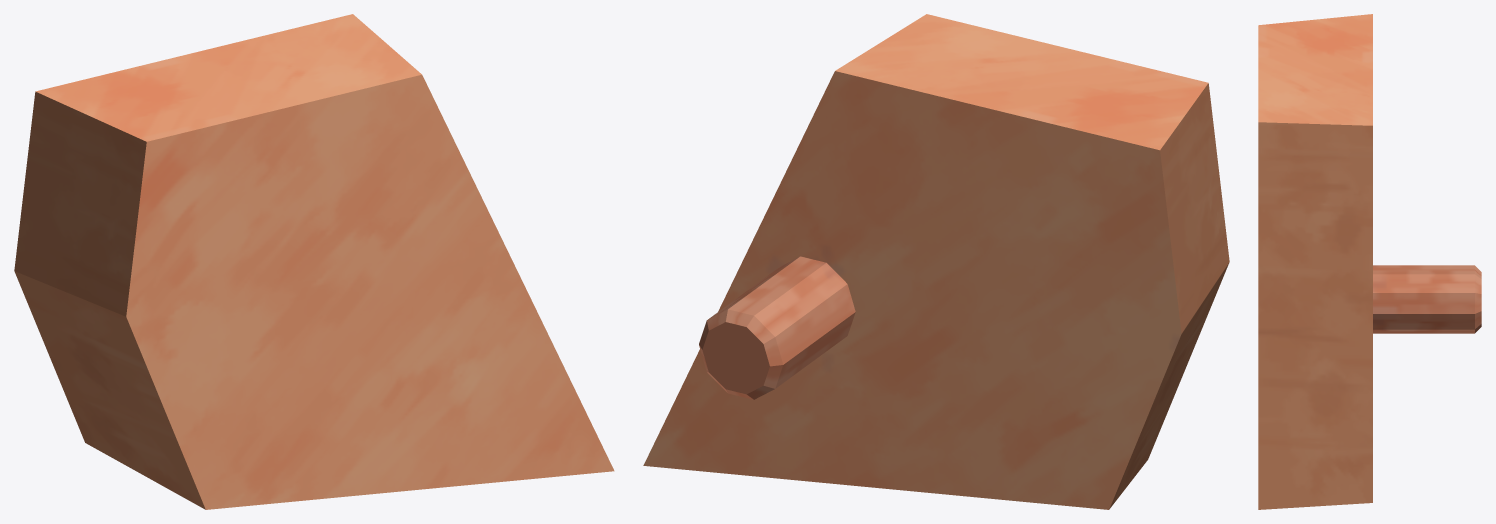
The model's file is wall_window_s06.fbx.
3 views of the same model, side by side, from view 1: azimuth 30°, elevation 25°; view 2: azimuth 150°, elevation 25°; view 3: azimuth 270°, elevation 25° (orthographic). The views are drawn at different scales.
Visible parts, largest first — view 1: wall_window_s06; view 2: wall_window_s06; view 3: wall_window_s06.
Part boxes in pixels (x1=…): wall_window_s06: x1=14, y1=14, x2=614, y2=509; wall_window_s06: x1=643, y1=14, x2=1229, y2=509; wall_window_s06: x1=1258, y1=14, x2=1481, y2=509.
Bounding box in the file's own units: 3.82 × 3.08 × 1.95.
